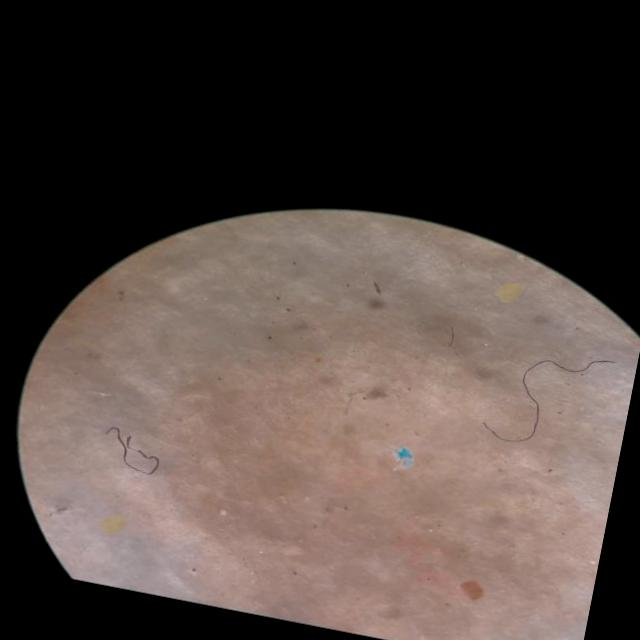fiber: (483, 358, 614, 442), (105, 428, 159, 474)
film: (393, 454, 413, 468)
fragment: (496, 284, 521, 302), (461, 582, 483, 600), (101, 516, 124, 533)
pellet: (218, 509, 227, 515)
